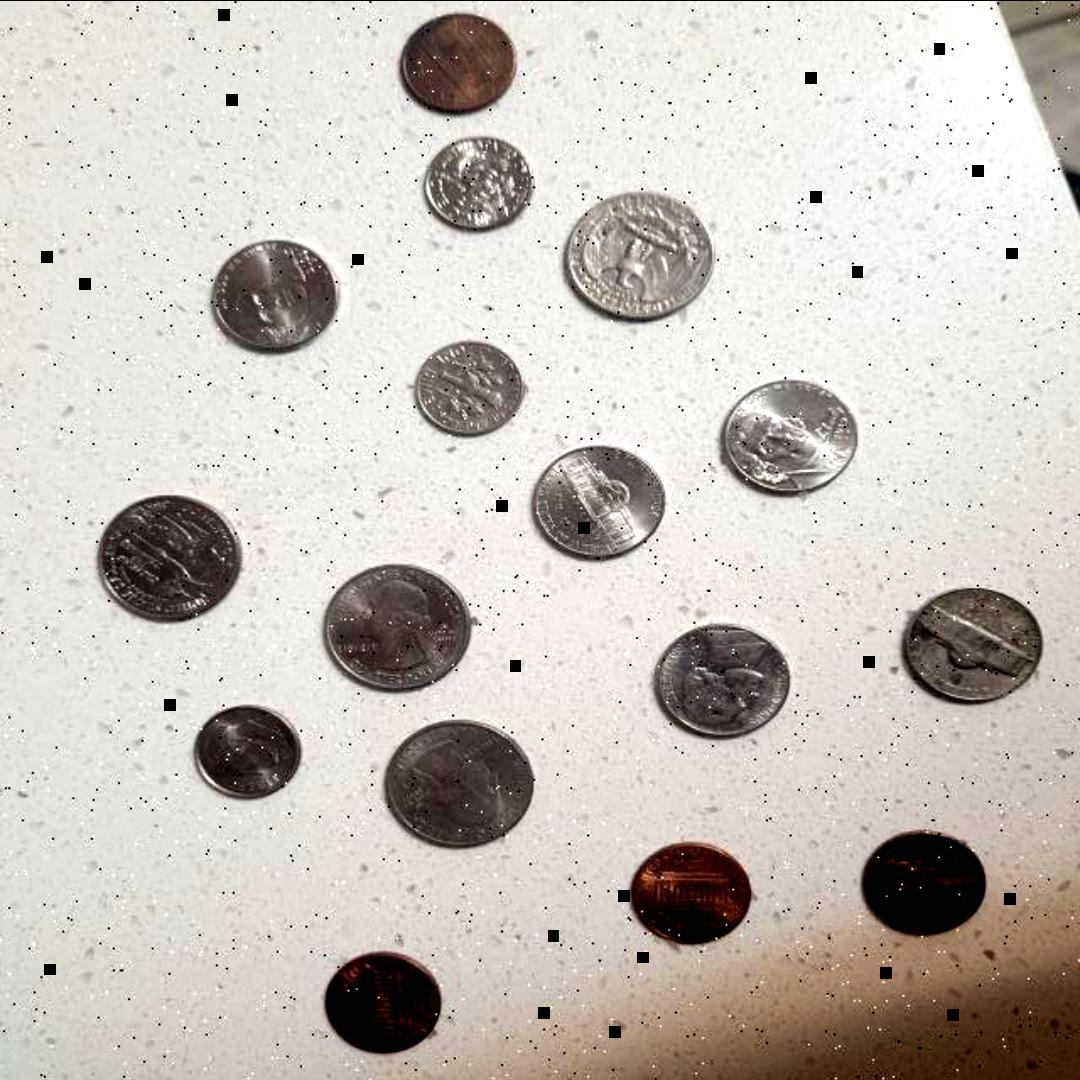Dime: (188, 702, 300, 804), (418, 136, 530, 237), (412, 336, 522, 438)
Nickel: (640, 620, 793, 744), (708, 378, 860, 502), (892, 584, 1044, 708), (194, 236, 346, 359), (520, 444, 672, 567)
Penny: (618, 838, 758, 948), (385, 9, 525, 118), (312, 945, 452, 1054), (850, 828, 990, 936)
Quarter: (552, 189, 718, 325), (374, 718, 540, 854), (315, 560, 475, 696), (91, 494, 249, 623)
